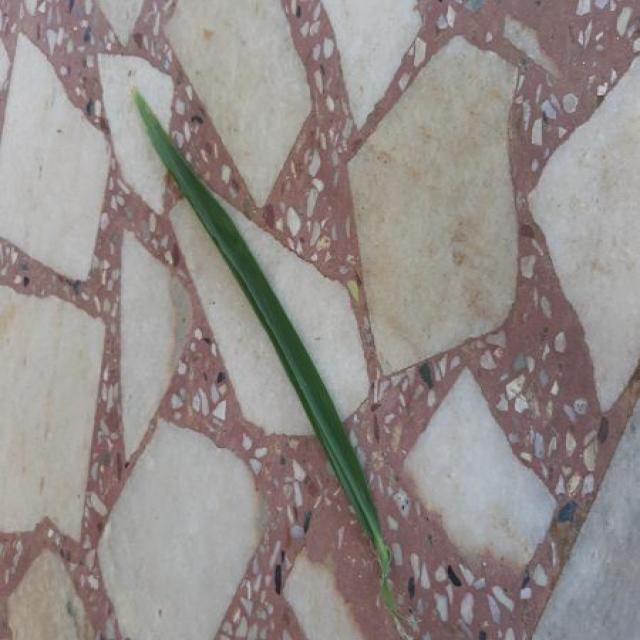ginger: (172, 202, 310, 433), (236, 214, 295, 314), (207, 490, 260, 564), (102, 505, 133, 562)
